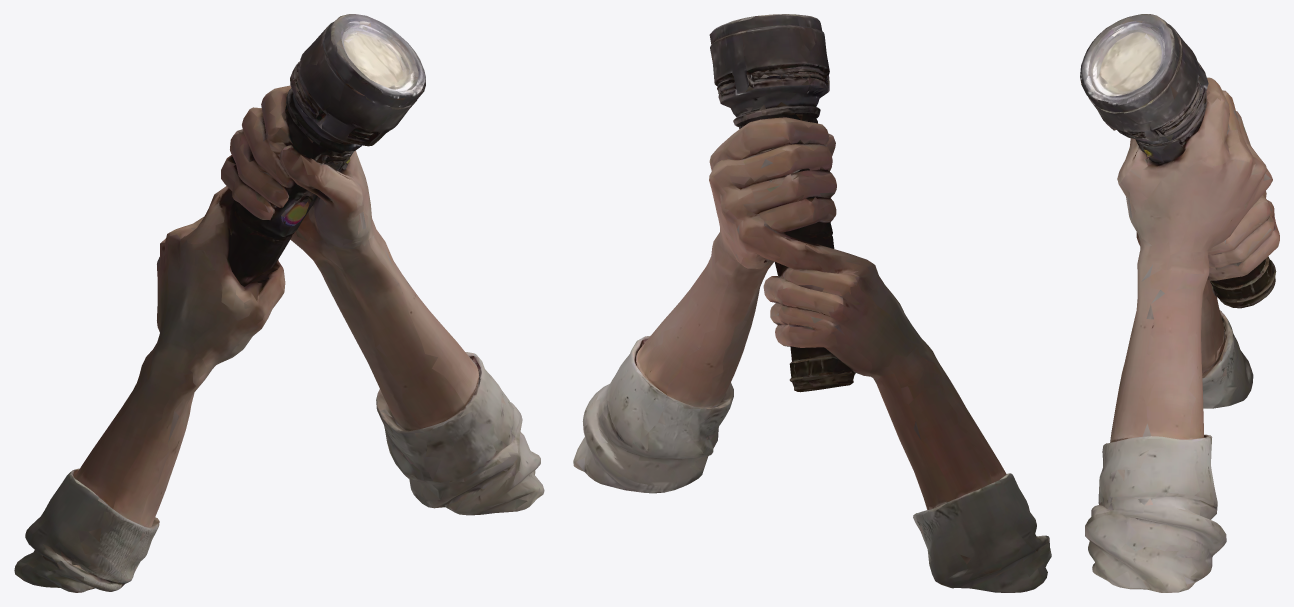
The model's file is M04_FPArmsFlashlight.glb.
3 renders of one model, left to right at view 1: azimuth 30°, elevation 25°; view 2: azimuth 150°, elevation 25°; view 3: azimuth 270°, elevation 25°, orthographic. The views are drawn at different scales.
Parts seen in each view (by area): view 1: geometry_0; view 2: geometry_0; view 3: geometry_0.
Boxes of the visible parts, box(x1,y1,x2,y2) form: geometry_0: box(14, 14, 544, 592); geometry_0: box(573, 14, 1051, 592); geometry_0: box(1080, 14, 1279, 592).
Size of the model in its own units: 0.7006 by 0.6775 by 0.2543.
1 material, 1 textured.
